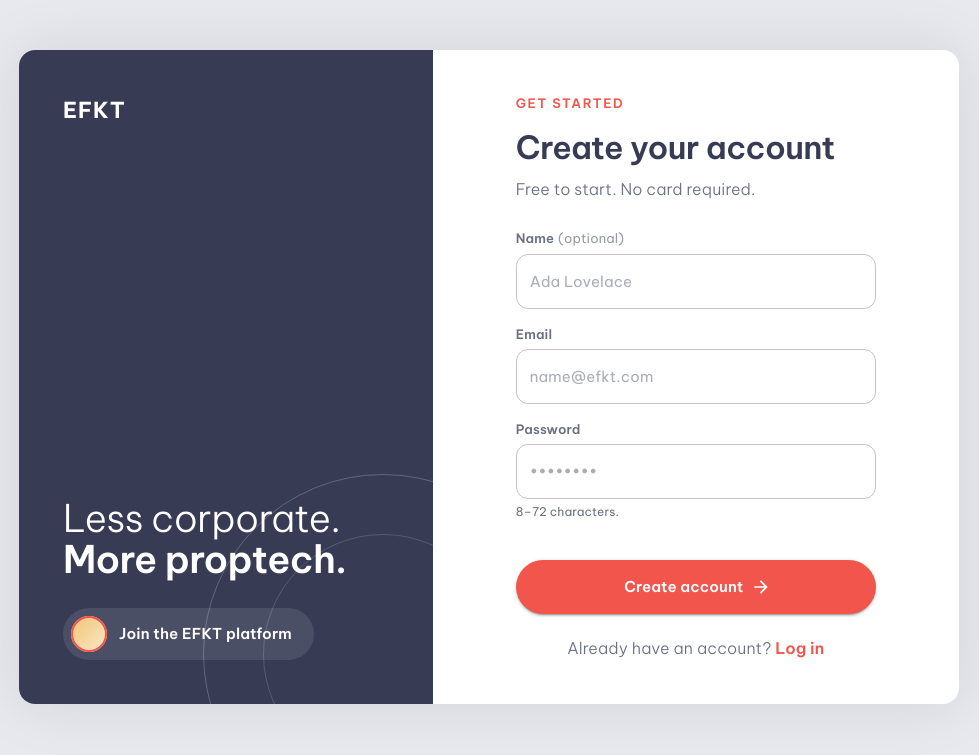
Scenario: RegisterForm › displays a top-level error when registration is rejected (e.g. email taken)
Type "ada@example.com" into the field labelled "Email".
click(696, 376); type("ada@example.com")  # box [516,349,876,404]
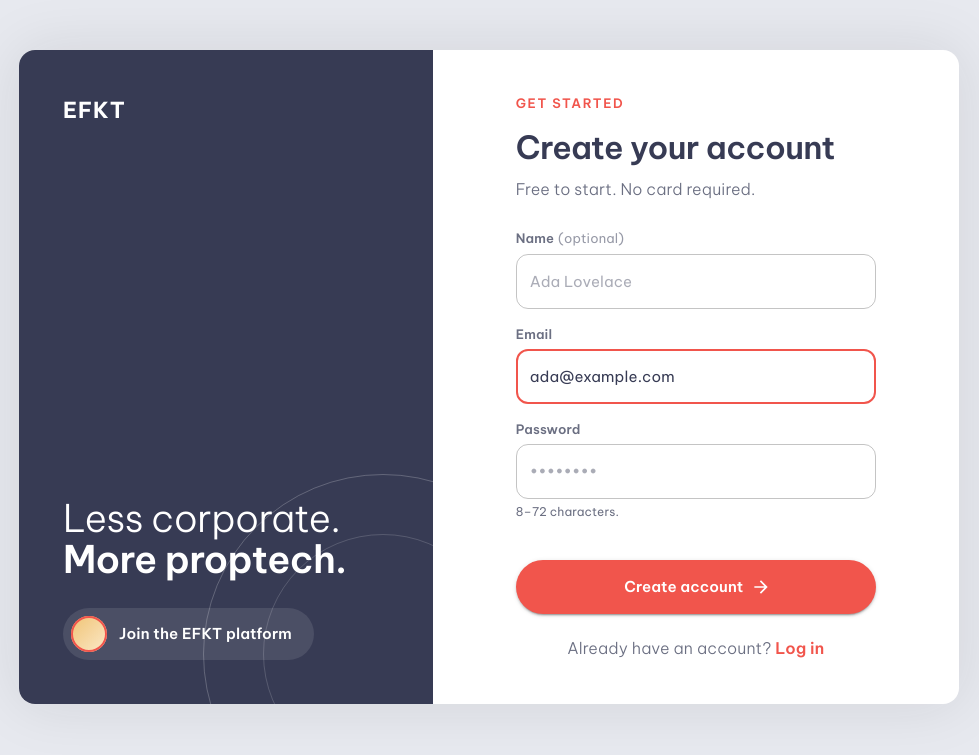
Type "correct horse battery" into the password field labelled "Password".
click(696, 472); type("correct horse battery")  # box [516,444,876,499]
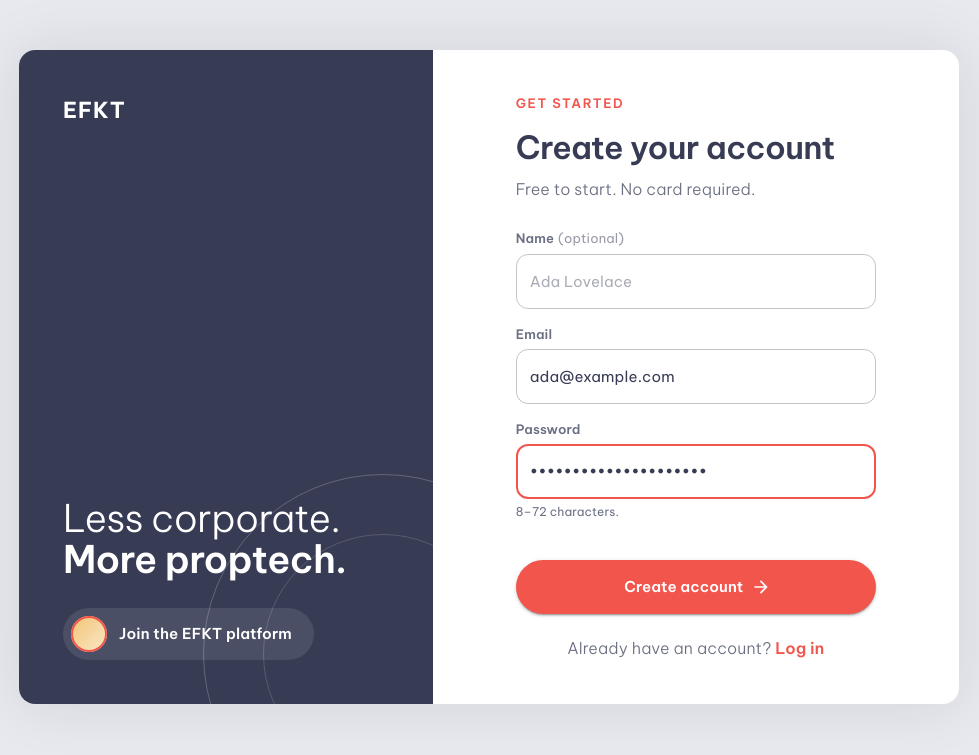
Click the button "Create account".
click(696, 587)  # box [516,560,876,614]
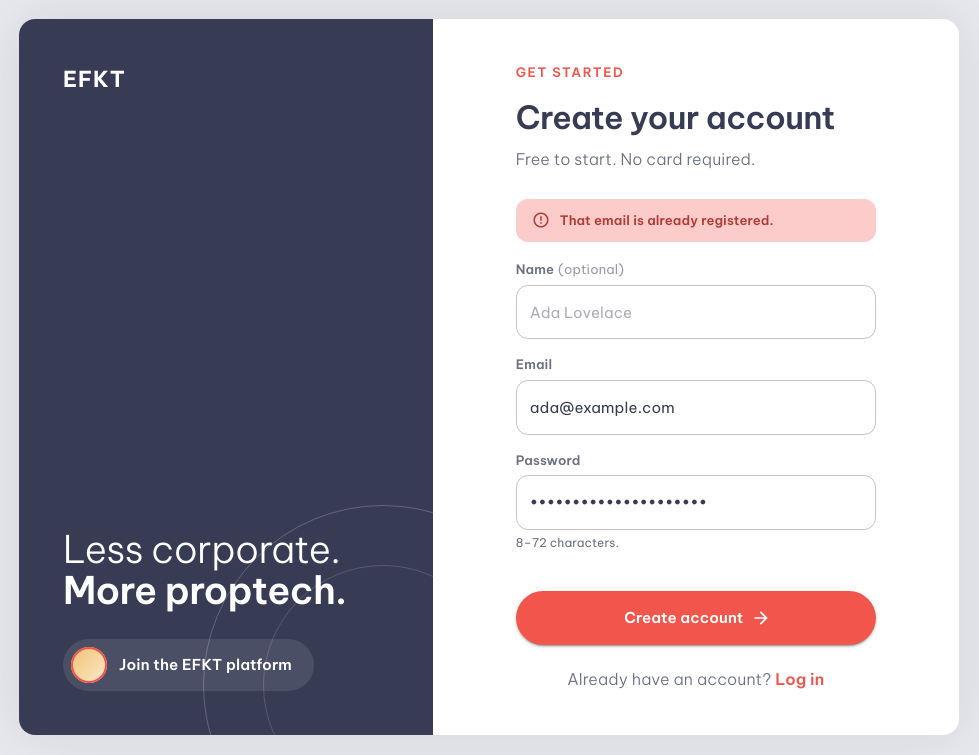
Result: the text "That email is already registered." is shown at [516,198,876,242]
